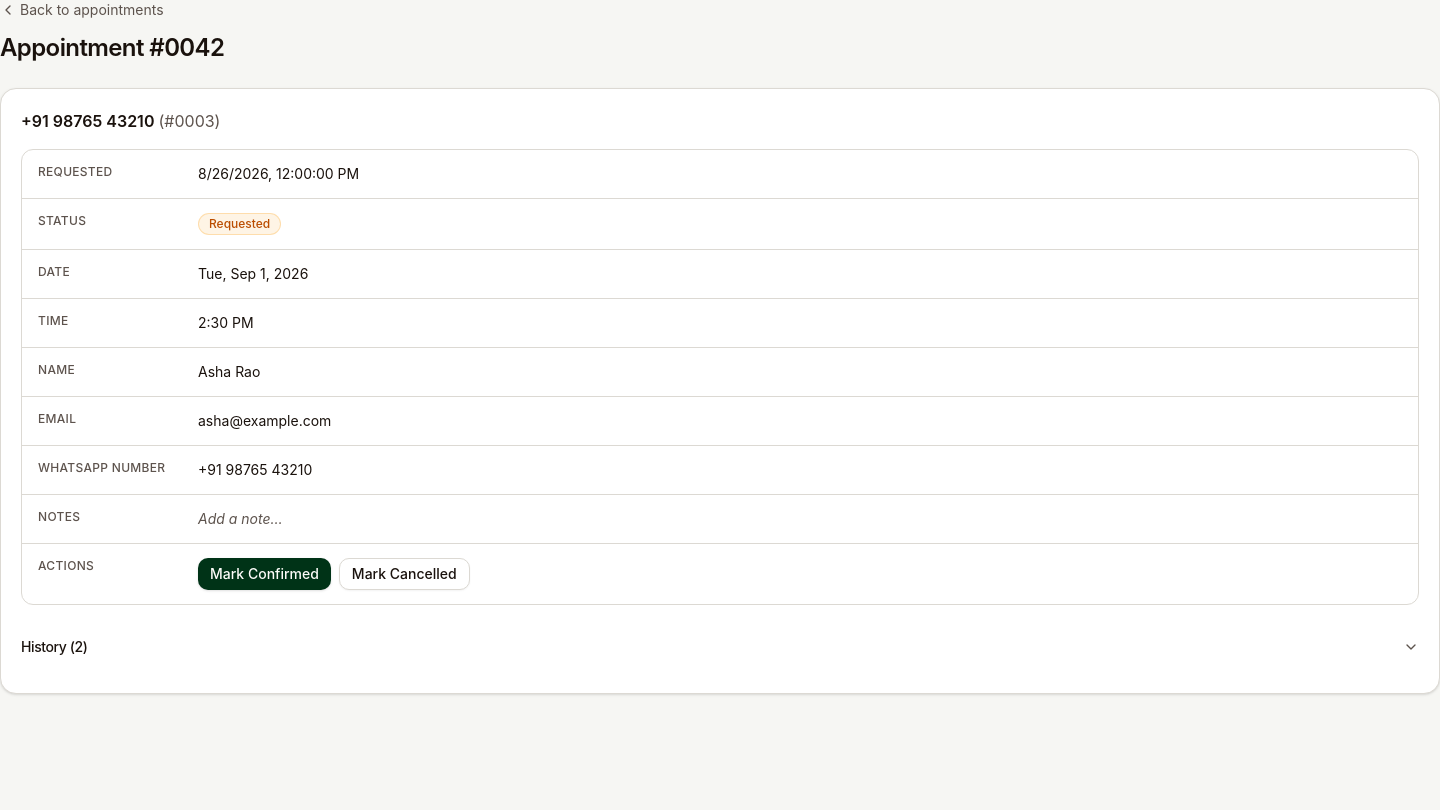
Test case: AppointmentDetailPage › expands the History accordion to show a reschedule event
Expected: the text "Asha Rao" is shown, x1=182 y1=348 x2=1418 y2=396
What coordinates should you click on to do the following:
click the button "History (2)"
I would click on:
 (48, 646)
Its box is x1=21 y1=621 x2=1419 y2=673.
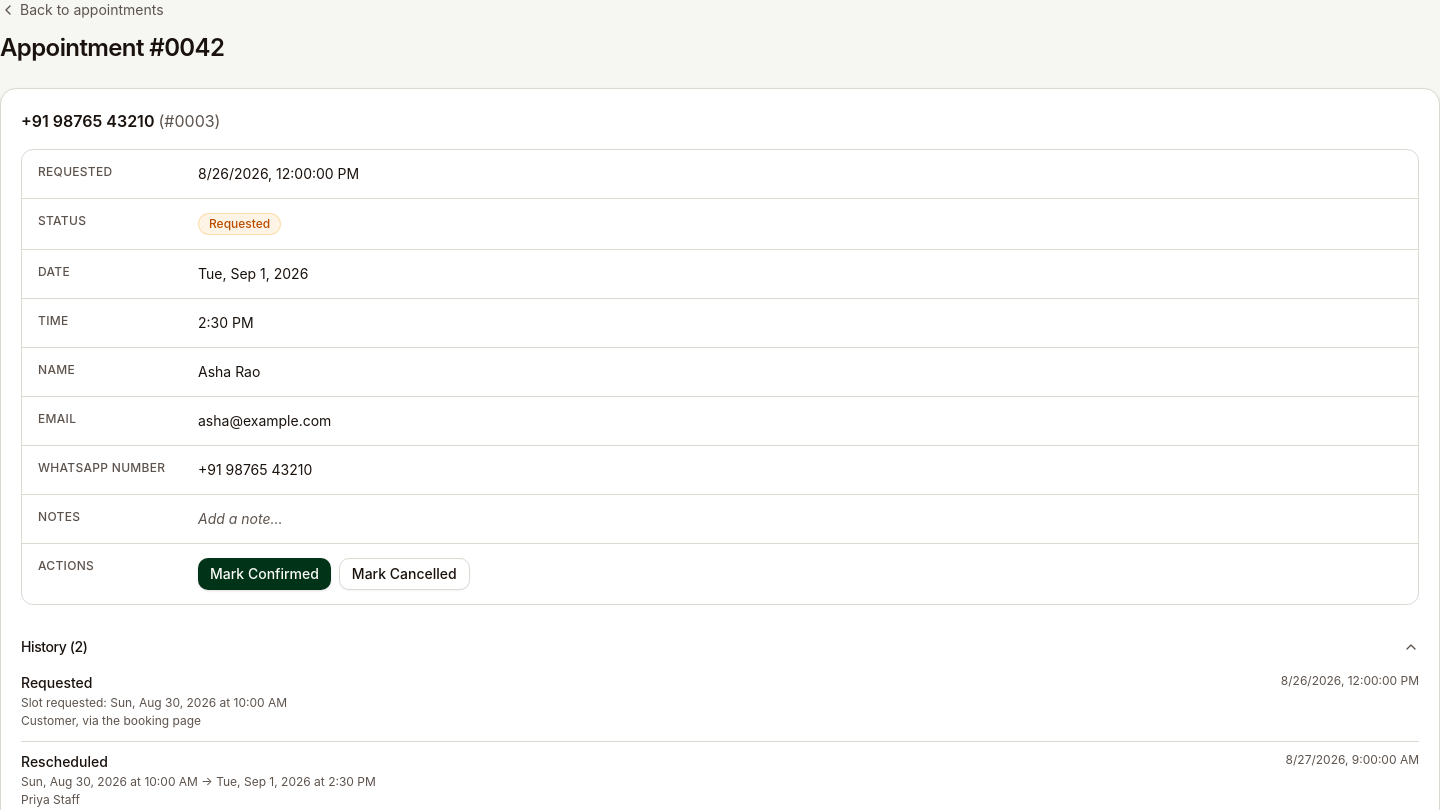
Expected: the text "Slot requested: Sun, Aug 30, 2026 at 10:00 AM" is shown, x1=21 y1=695 x2=287 y2=711
Expected: the text "Rescheduled" is shown, x1=21 y1=753 x2=108 y2=770
Expected: the text "Customer, via the booking page" is shown, x1=21 y1=713 x2=201 y2=728
